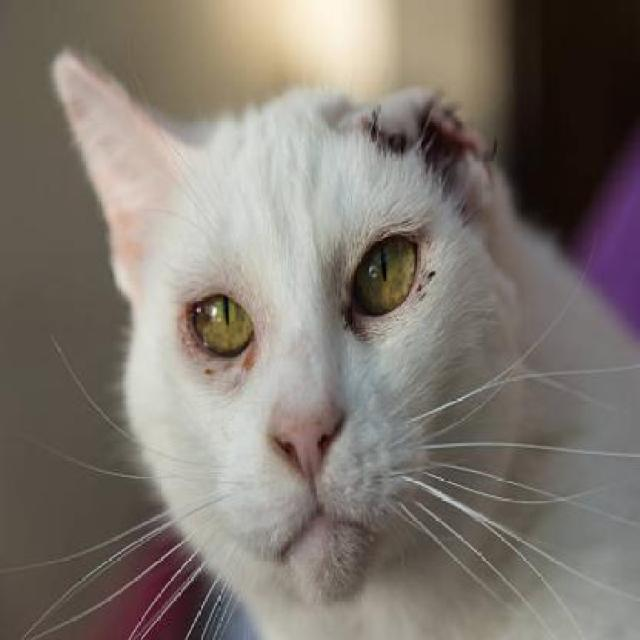cat: (44, 44, 633, 574)
injured: (356, 91, 512, 252)
